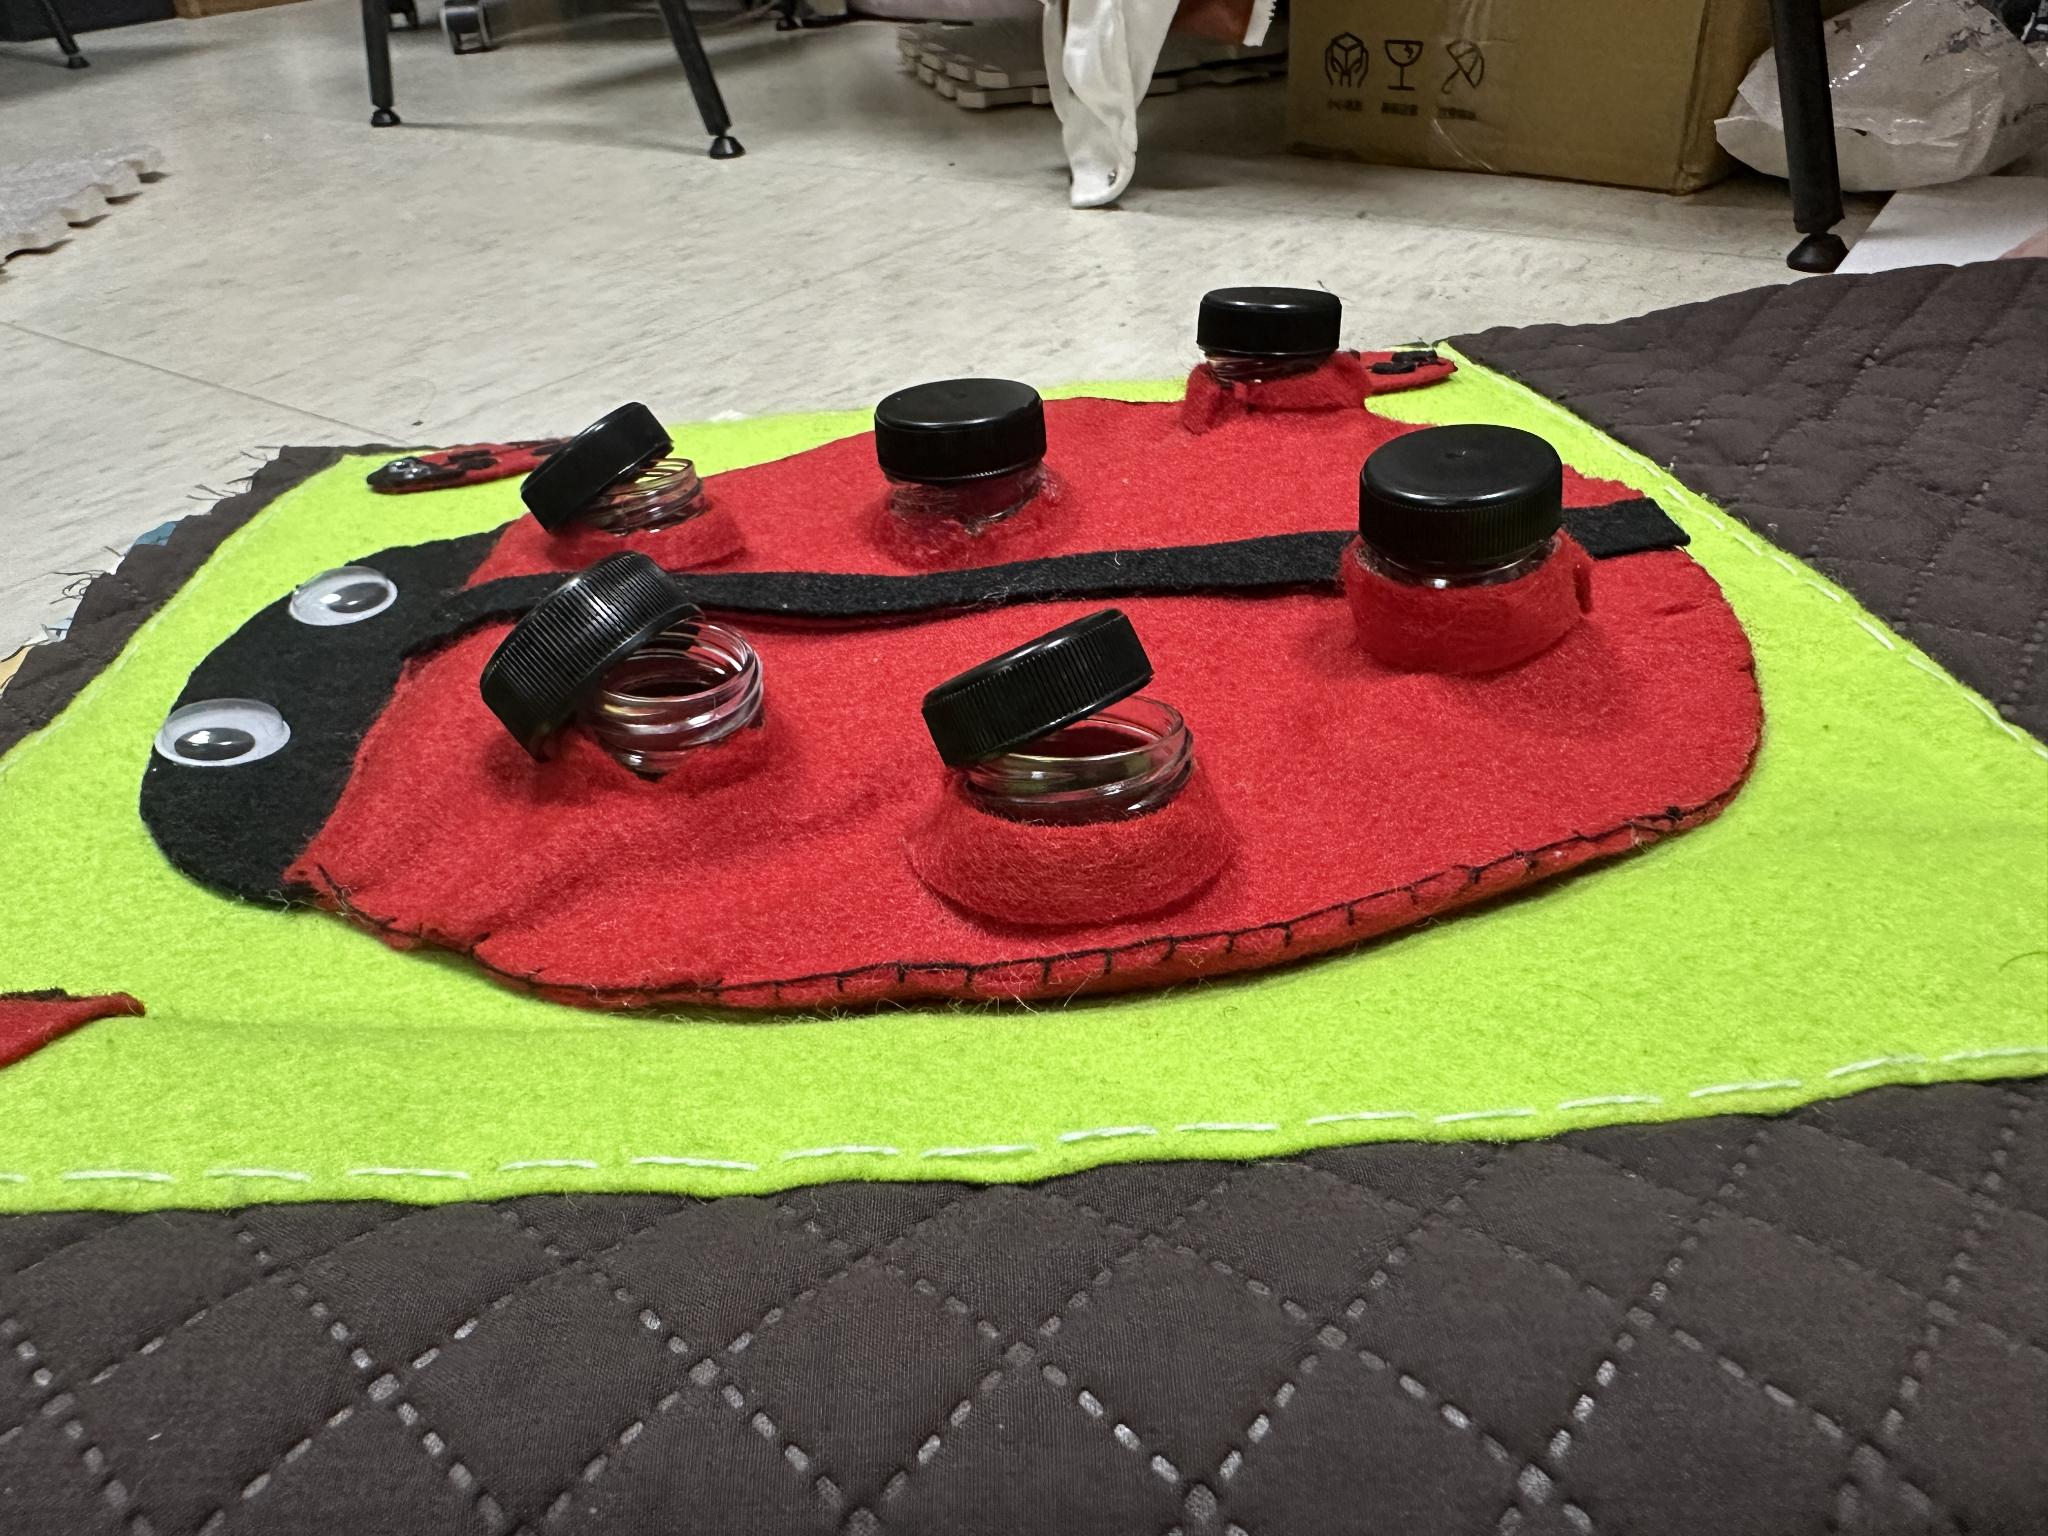cap_ng: (882, 605, 1232, 905), (464, 547, 790, 789), (1335, 410, 1609, 674), (835, 353, 1077, 563), (469, 397, 731, 553), (1159, 266, 1379, 447)
